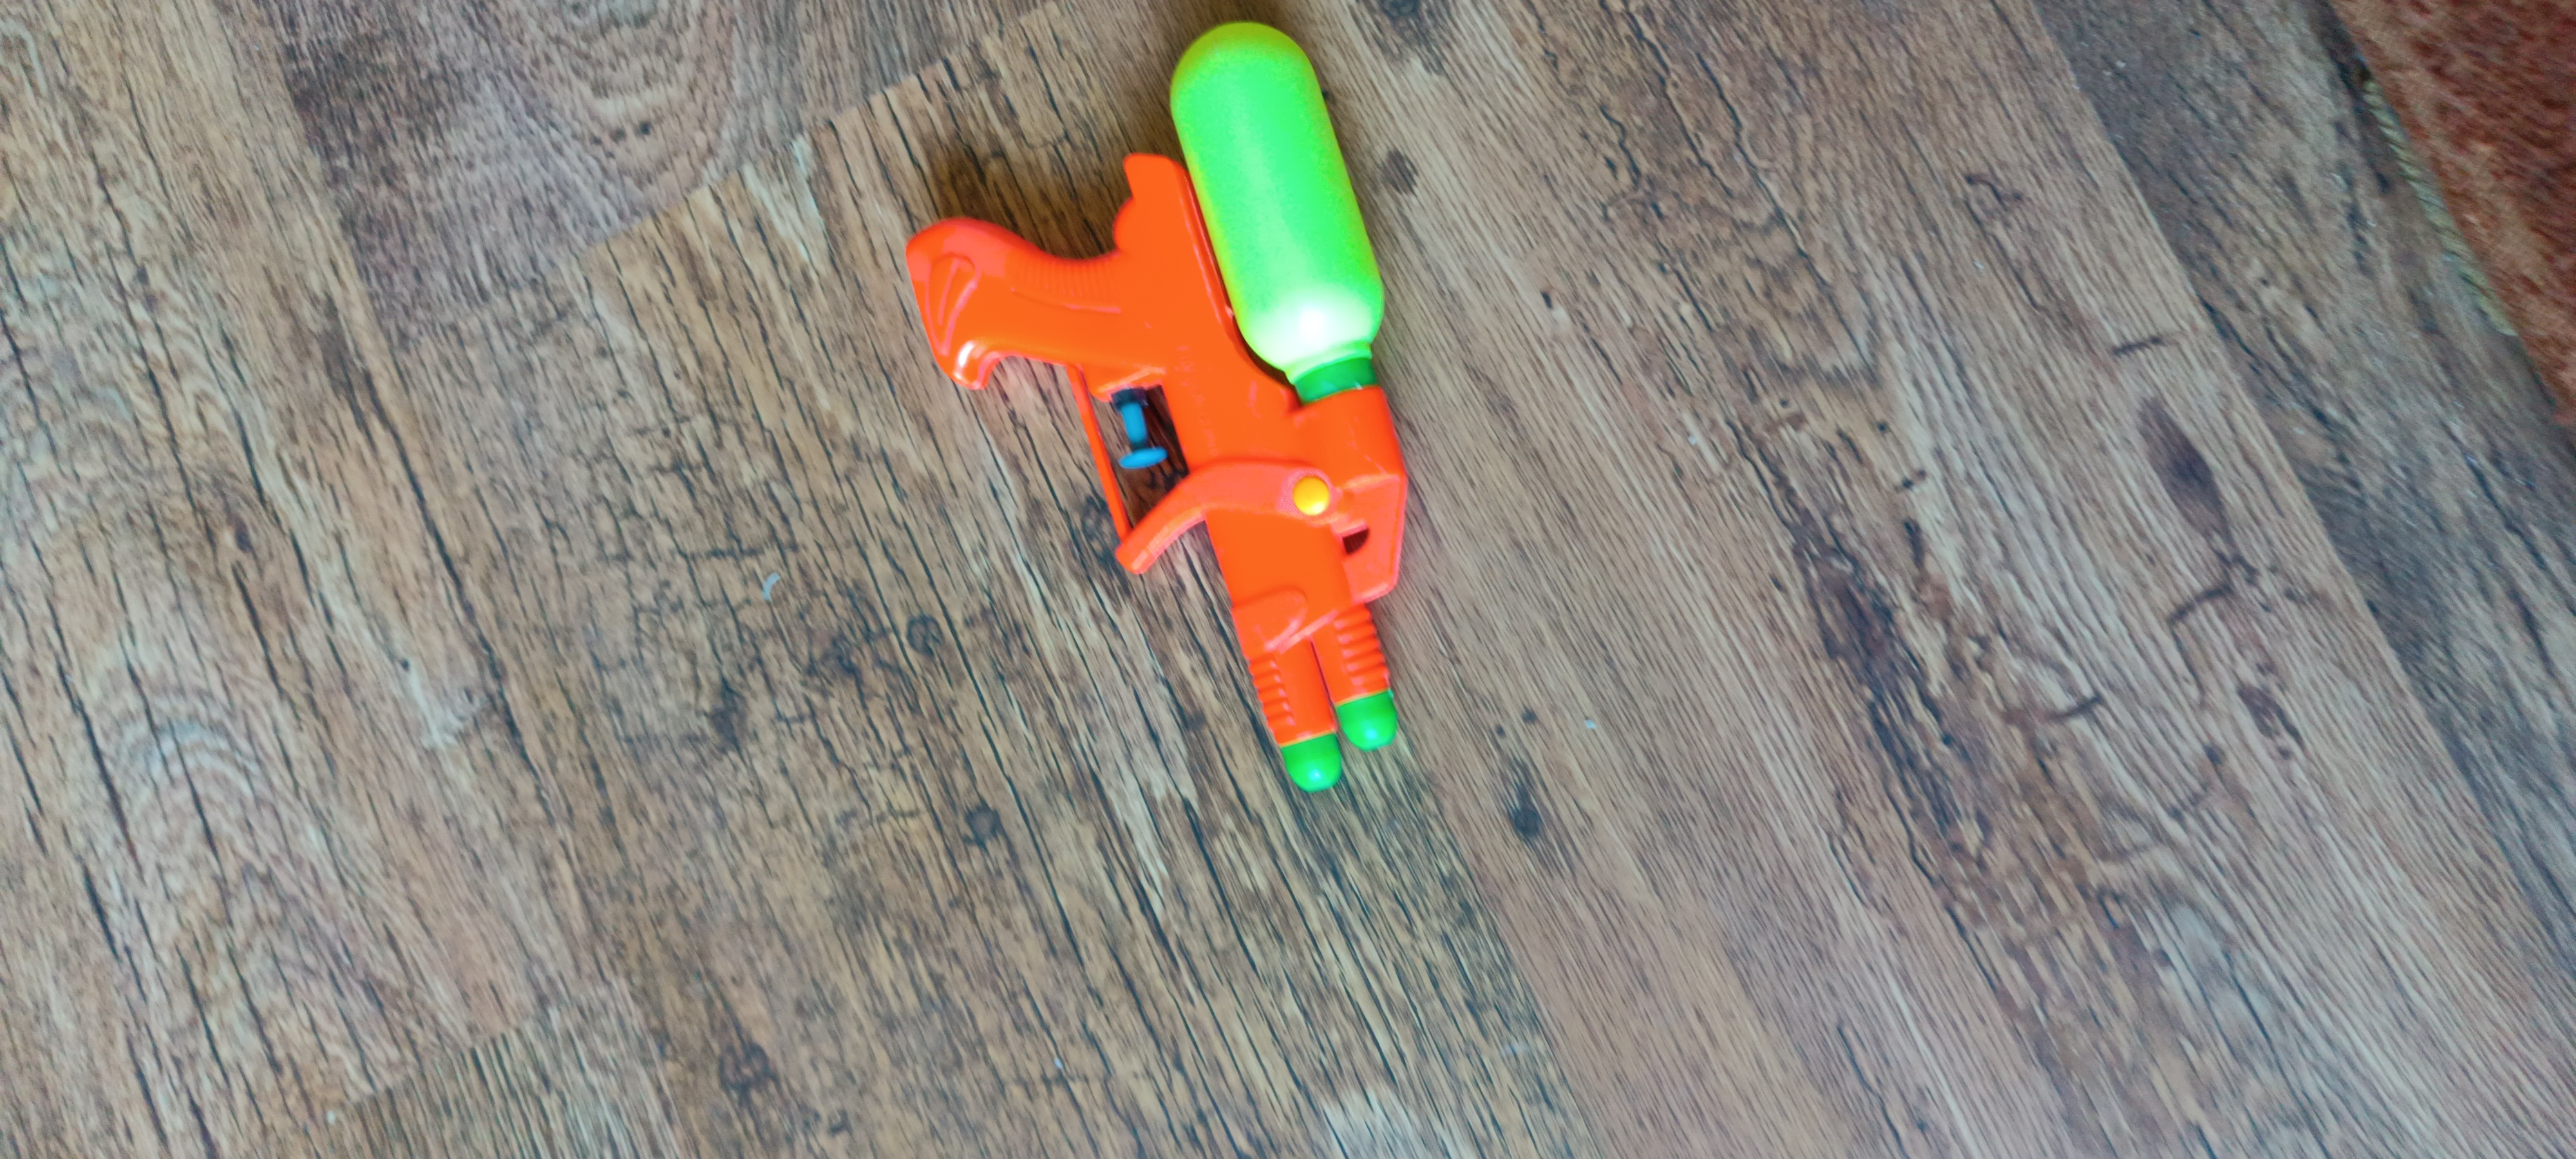Water Gun: (905, 18, 1411, 795)
